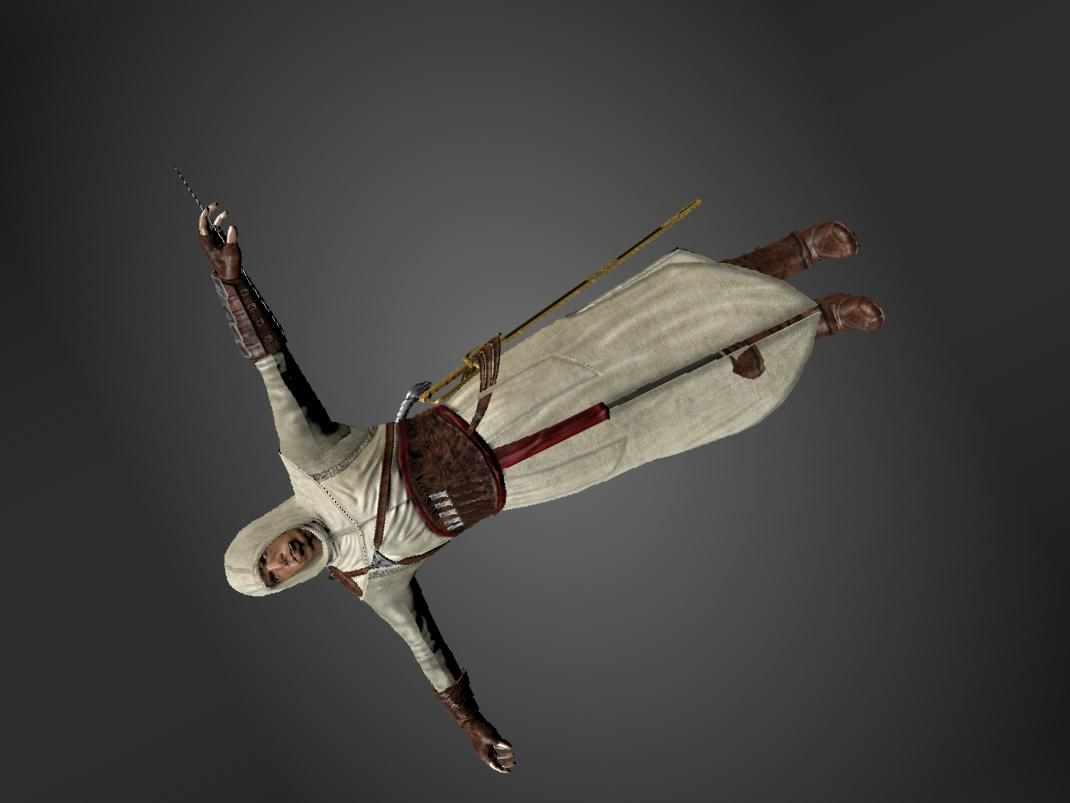clip: (731, 341, 769, 386)
